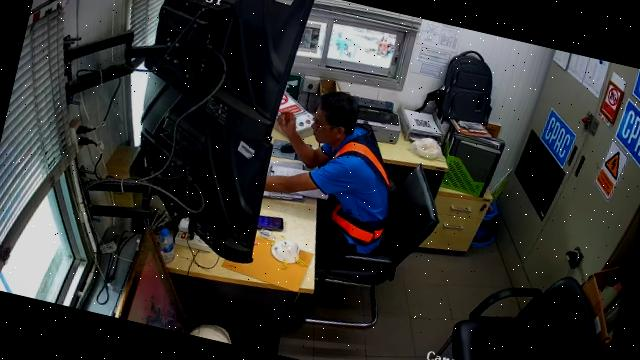Head: (314, 94, 356, 147)
People: (265, 93, 390, 264)
Phone: (258, 216, 284, 231)
